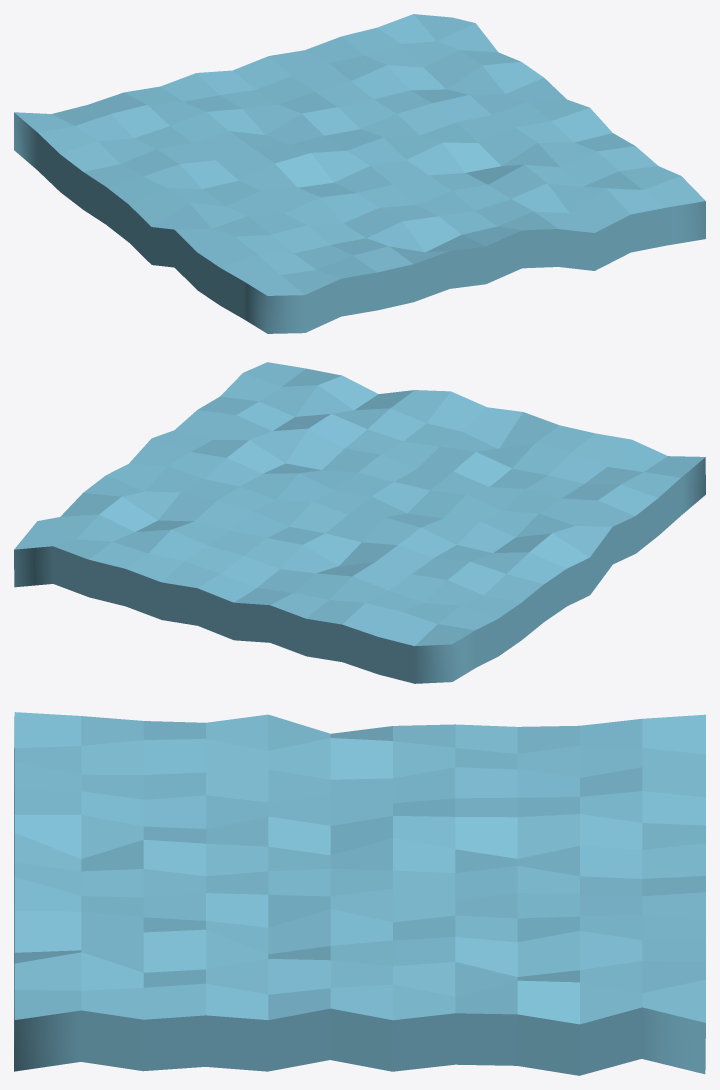
File: env-ground-tile3.fbx
3 views of the same model, one above another, from view 1: azimuth 30°, elevation 25°; view 2: azimuth 150°, elevation 25°; view 3: azimuth 270°, elevation 25° (orthographic). The views are drawn at different scales.
Parts seen in each view (by area): view 1: gol.012; view 2: gol.012; view 3: gol.012.
Boxes of the visible parts, x1,y1,x2,y2 form: gol.012: (14,14,705,333); gol.012: (14,362,705,683); gol.012: (14,712,705,1075).
Size of the model in its own units: 600 by 78.61 by 602.
